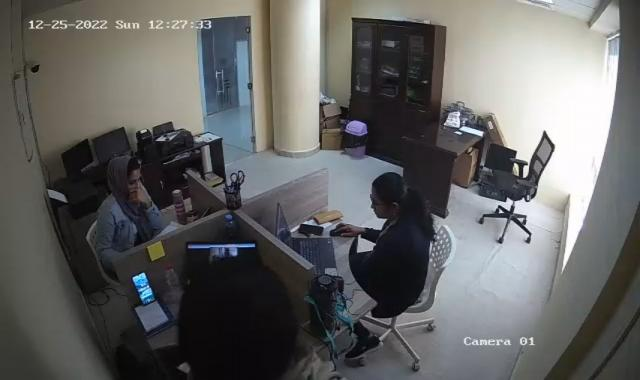no_hairnet: (177, 258, 304, 380), (368, 174, 412, 219), (107, 155, 143, 189)
